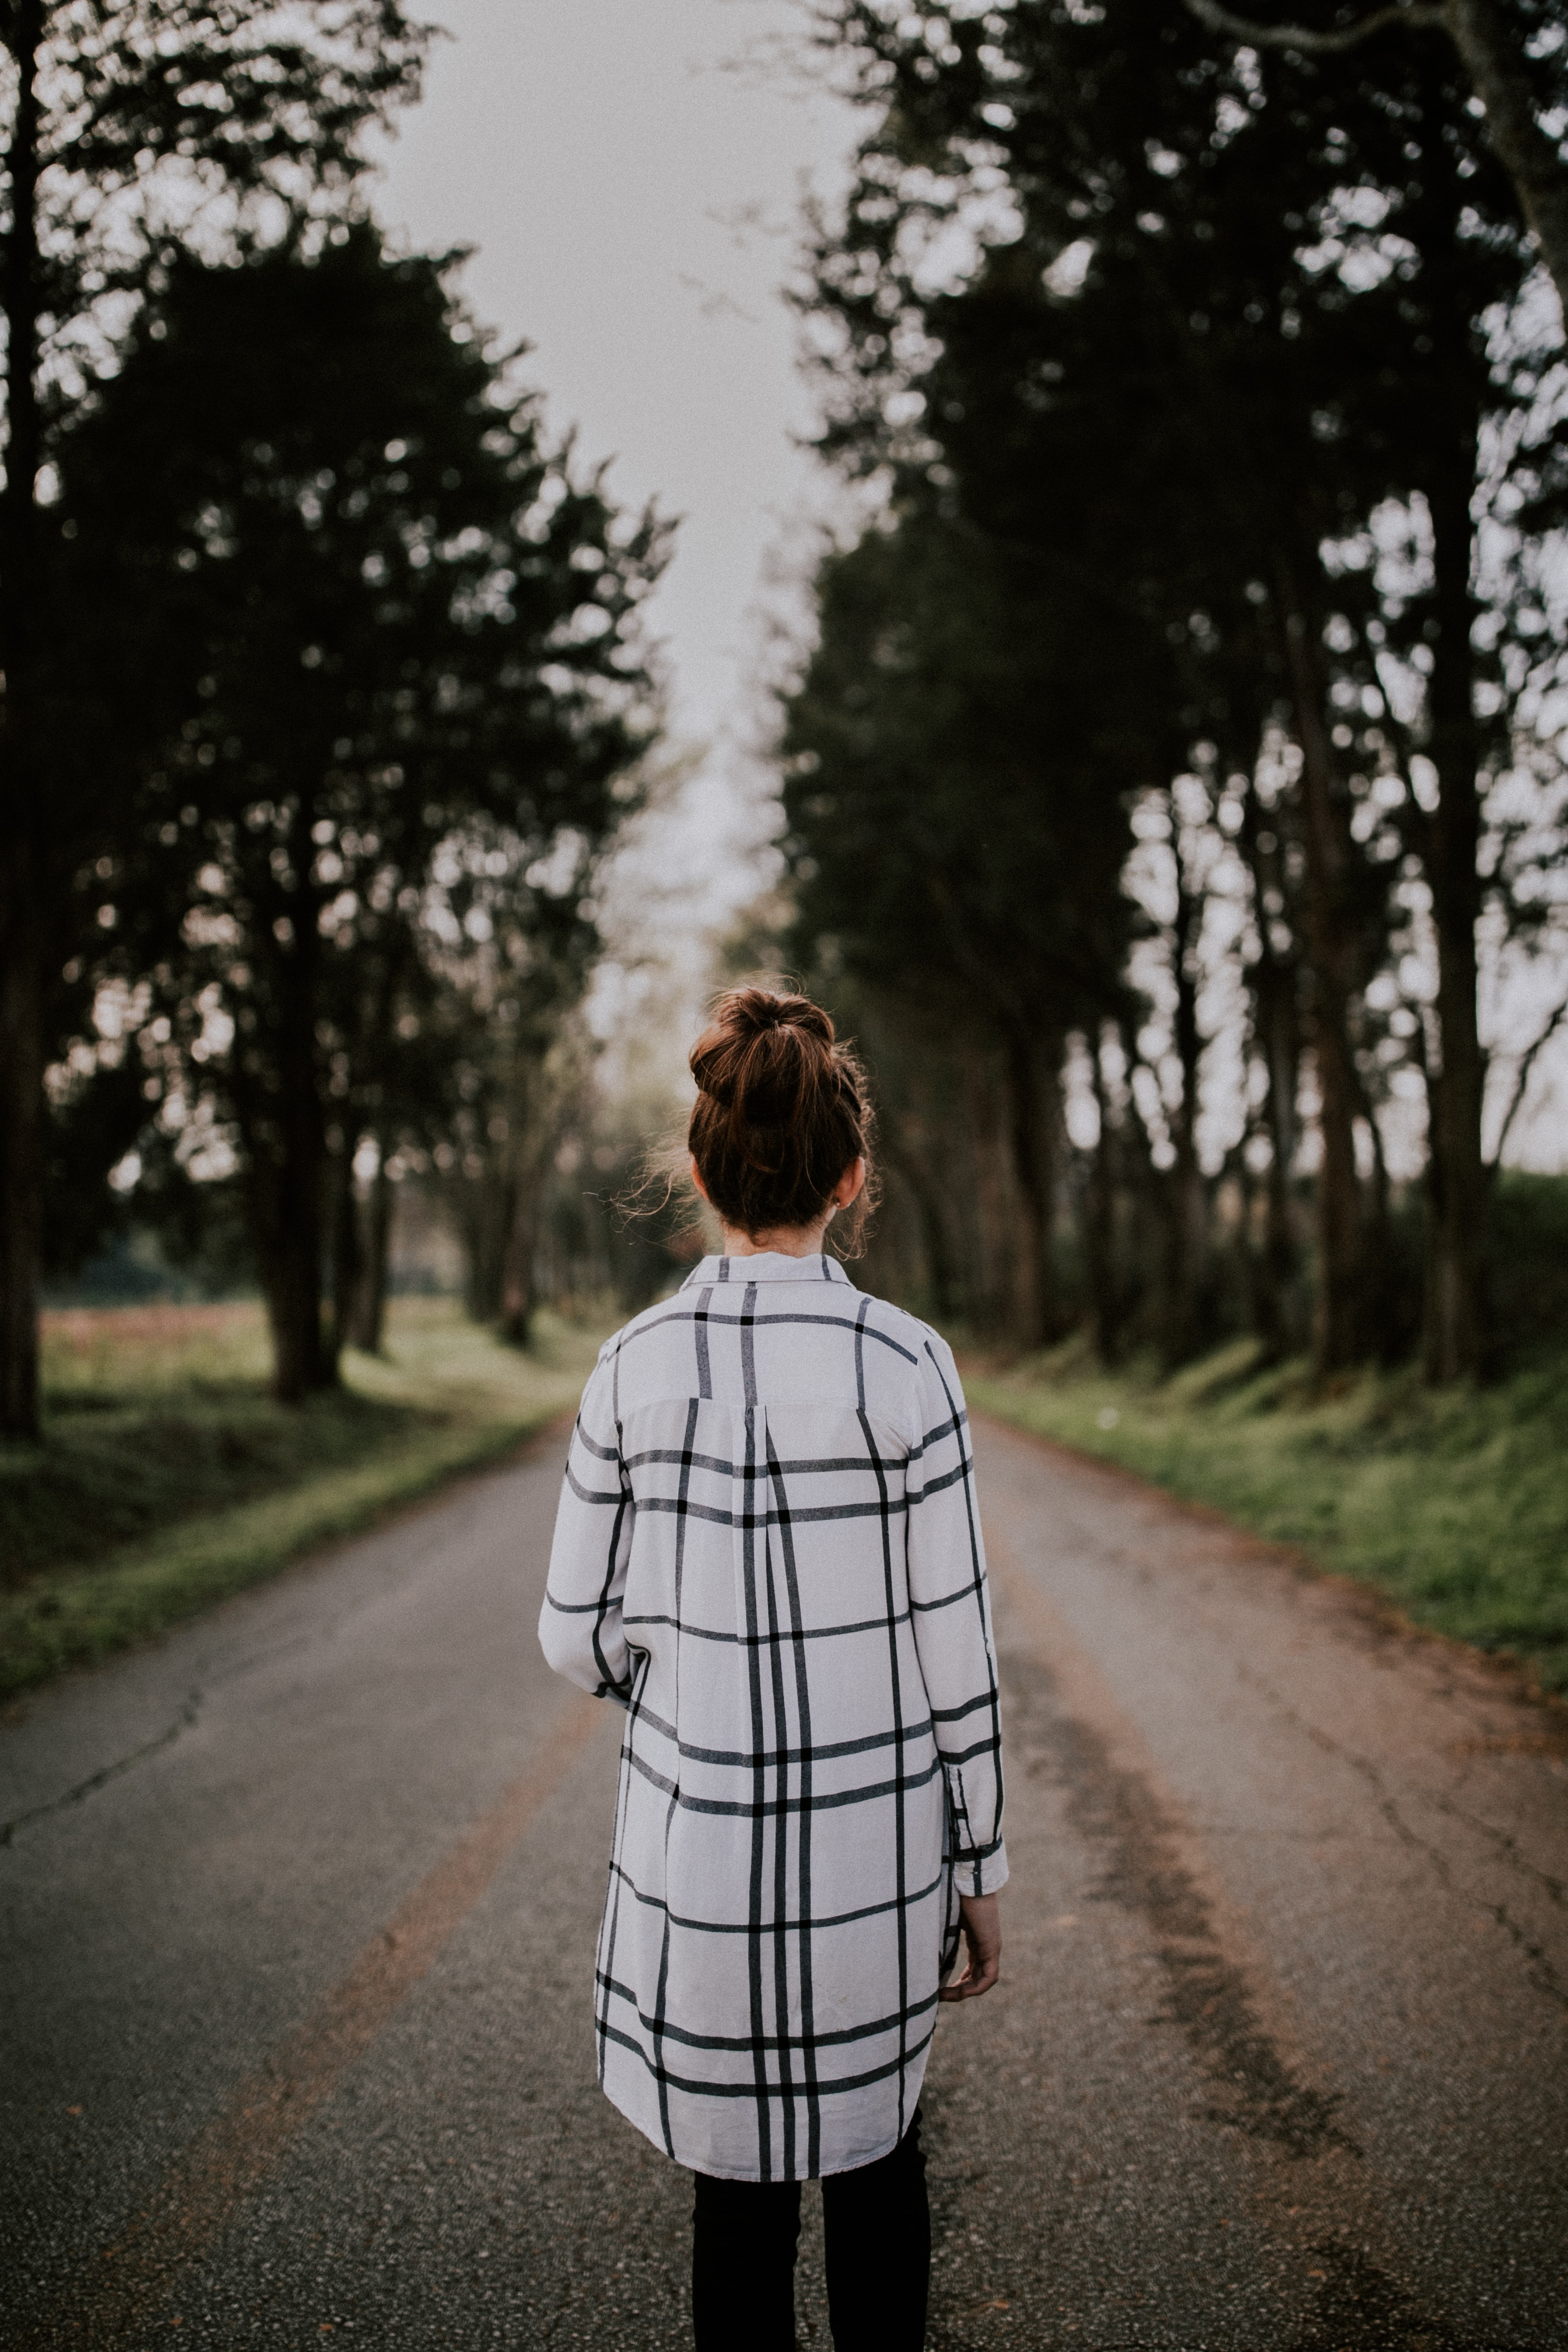person: (541, 987, 1008, 2352)
